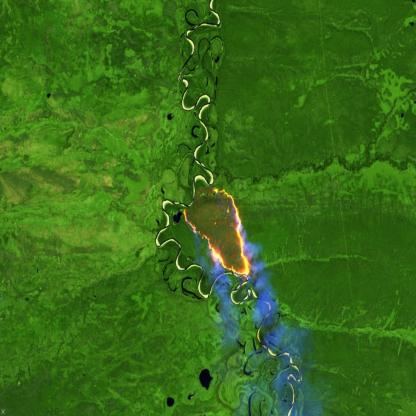fire: (182, 183, 254, 279)
